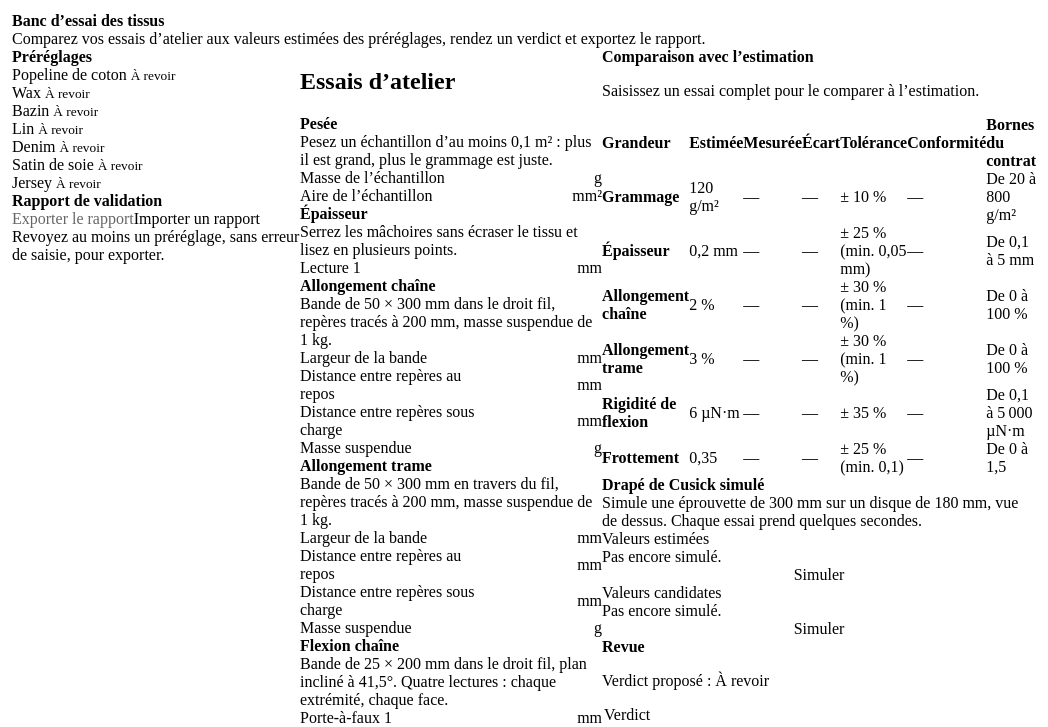
Test: panneau de drapé simulé : états › échec : message traduit annoncé
Step 1. Click the 1st button "Simuler" → (819, 575), box [602,566,1036,584]
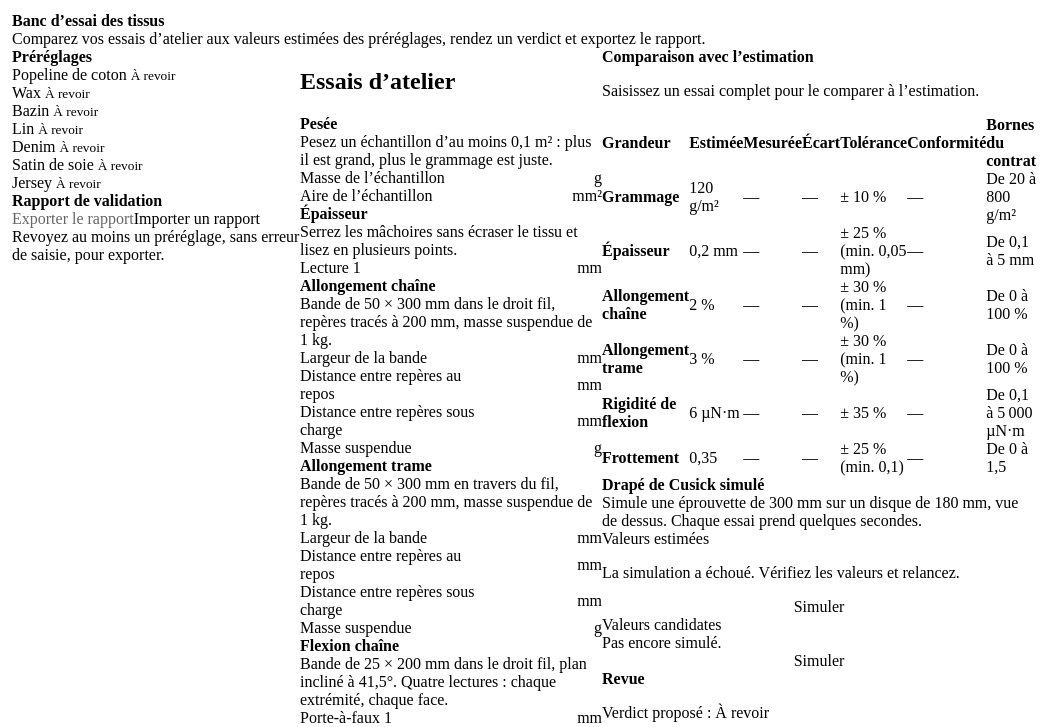
Check: the number of buttons "Simuler" is 2, box [602,598,1036,616]; [602,652,1036,670]
Check: the message "La simulation a échoué. Vérifiez les valeurs et relancez." is shown, box [602,564,960,581]
